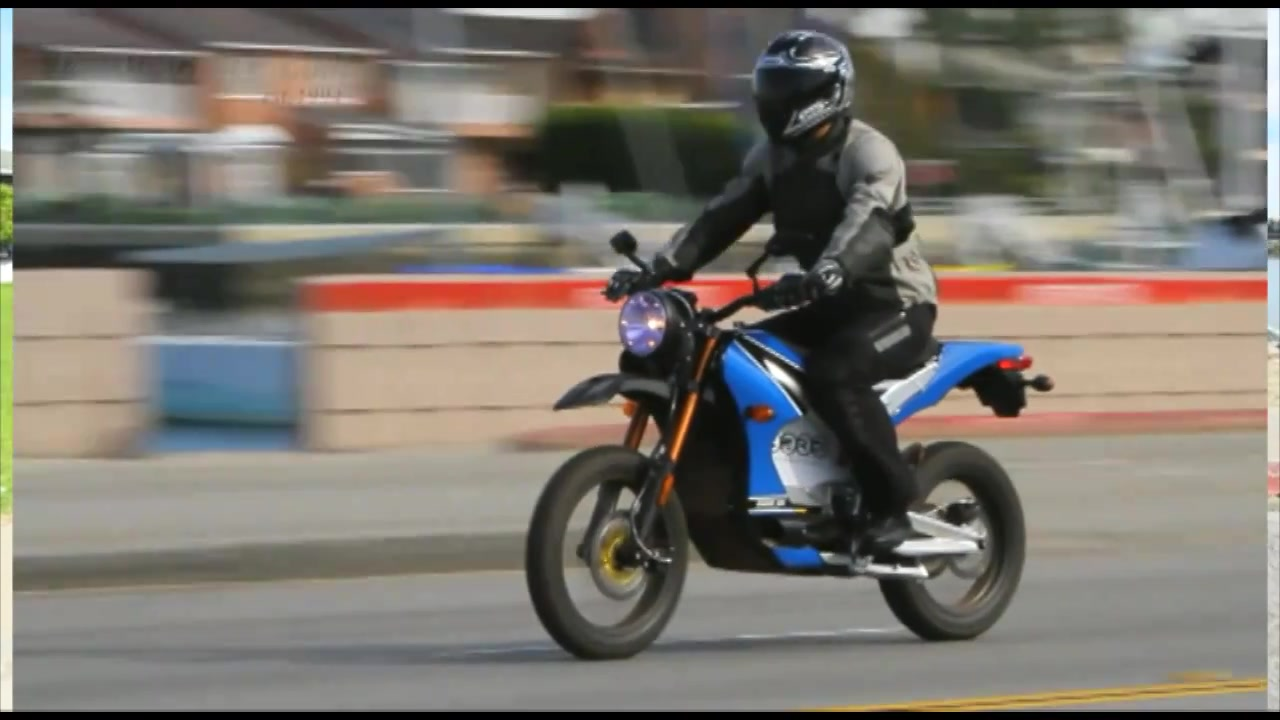motorbike: (519, 227, 1061, 664)
